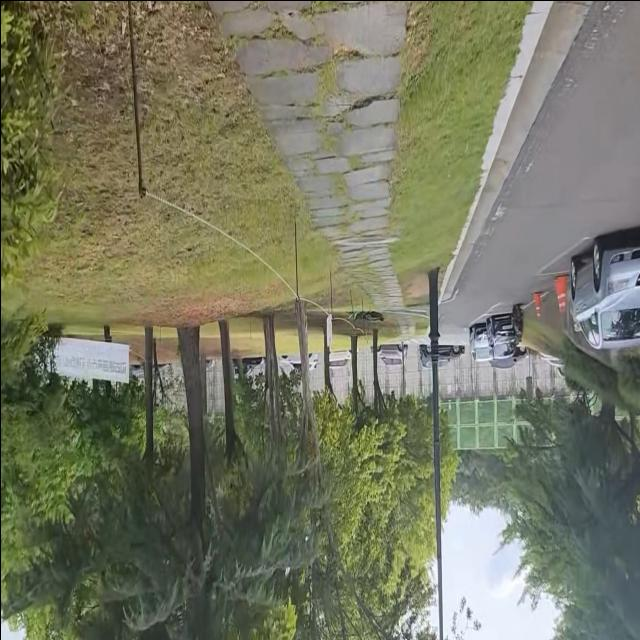obstacle: (561, 220, 640, 360), (429, 262, 444, 640), (465, 299, 531, 364)
road: (432, 0, 640, 336)
sidewalk: (195, 0, 412, 333)
